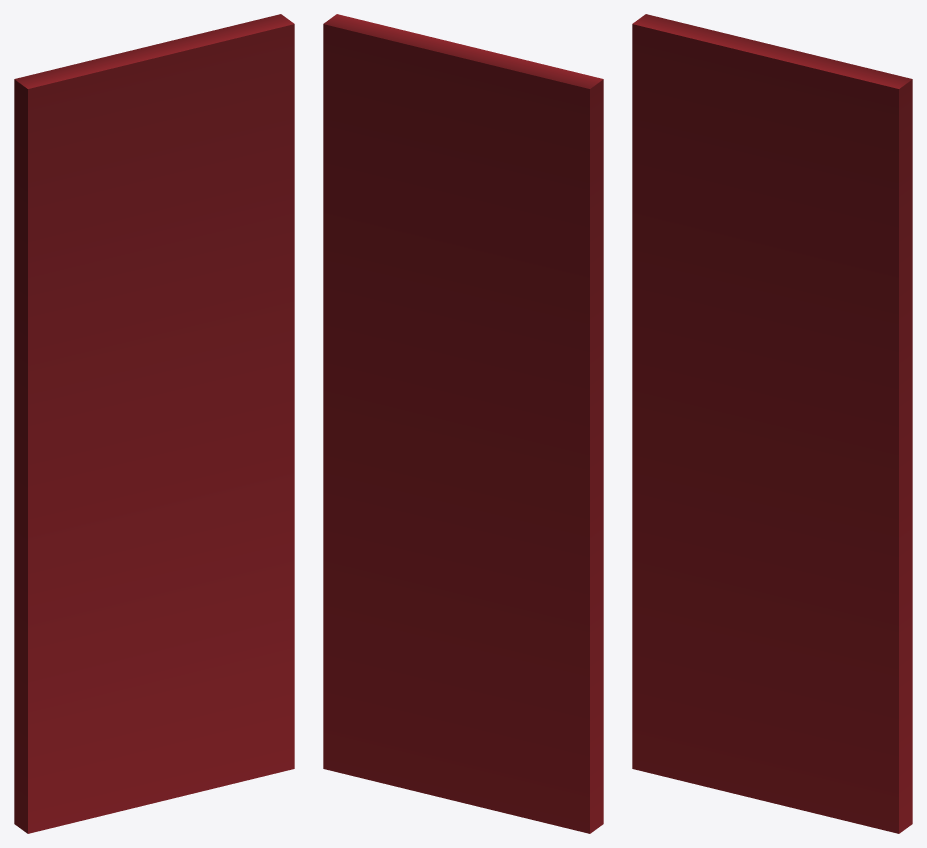
Rendered from PRP_Banner.glb.
3 renders of one model, left to right at view 1: azimuth 30°, elevation 25°; view 2: azimuth 150°, elevation 25°; view 3: azimuth 330°, elevation 25°, orthographic.
Parts seen in each view (by area): view 1: PRP_Banner; view 2: PRP_Banner; view 3: PRP_Banner.
Part boxes in pixels (bbox=[...]): PRP_Banner: bbox=[14, 14, 294, 833]; PRP_Banner: bbox=[323, 14, 603, 833]; PRP_Banner: bbox=[632, 14, 912, 833].
Size of the model in its own units: 0.9 by 2.4 by 0.08.
1 material, 1 textured.
